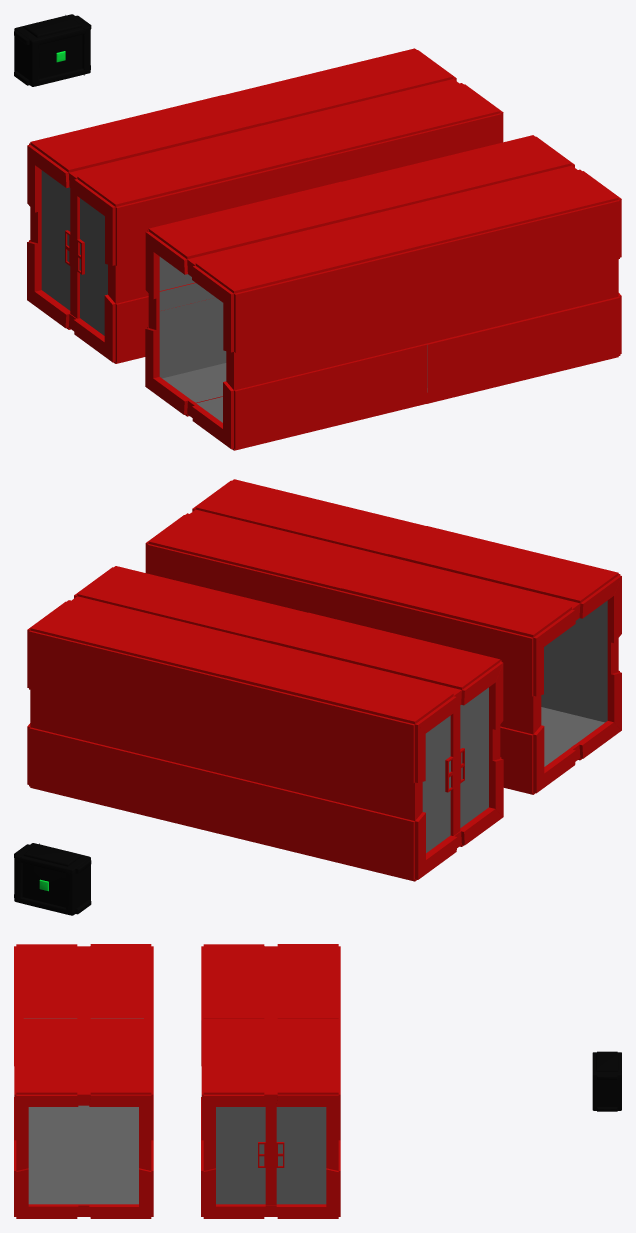
File: Orbit Crates and Black Box.fbx
3 renders of one model, top to bottom at view 1: azimuth 30°, elevation 25°; view 2: azimuth 150°, elevation 25°; view 3: azimuth 270°, elevation 25°, orthographic. The views are drawn at different scales.
Parts seen in each view (by area): view 1: Shipping_Container_Hollow, Shipping_Container, Cube; view 2: Shipping_Container, Shipping_Container_Hollow, Cube; view 3: Shipping_Container_Hollow, Shipping_Container, Cube.
Part boxes in pixels (x1=…): Shipping_Container_Hollow: x1=145, y1=135, x2=621, y2=450; Shipping_Container: x1=27, y1=48, x2=503, y2=363; Cube: x1=14, y1=14, x2=91, y2=86; Shipping_Container: x1=27, y1=566, x2=503, y2=881; Shipping_Container_Hollow: x1=145, y1=479, x2=621, y2=794; Cube: x1=14, y1=843, x2=91, y2=915; Shipping_Container_Hollow: x1=14, y1=944, x2=153, y2=1218; Shipping_Container: x1=201, y1=944, x2=340, y2=1218; Cube: x1=592, y1=1051, x2=621, y2=1111.
Bounding box in the file's own units: 1322 × 517 × 2252.
